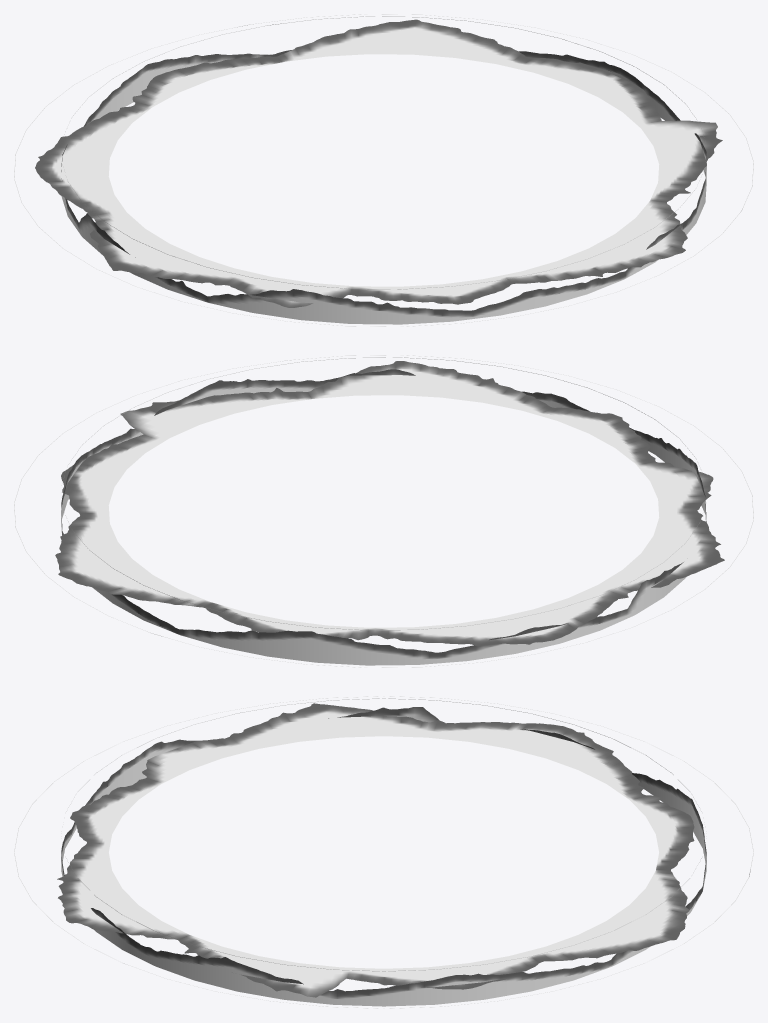
Rendered from eff_rin001_mesh.fbx.
3 renders of one model, top to bottom at view 1: azimuth 30°, elevation 25°; view 2: azimuth 150°, elevation 25°; view 3: azimuth 270°, elevation 25°, orthographic.
Visible parts, largest first — view 1: eff_rin001_mesh; view 2: eff_rin001_mesh; view 3: eff_rin001_mesh.
Part boxes in pixels (x1,y1,x2,y2): eff_rin001_mesh: (14, 14, 753, 326); eff_rin001_mesh: (14, 355, 753, 667); eff_rin001_mesh: (14, 696, 753, 1008).
Size of the model in its own units: 458 by 24.1 by 458.
